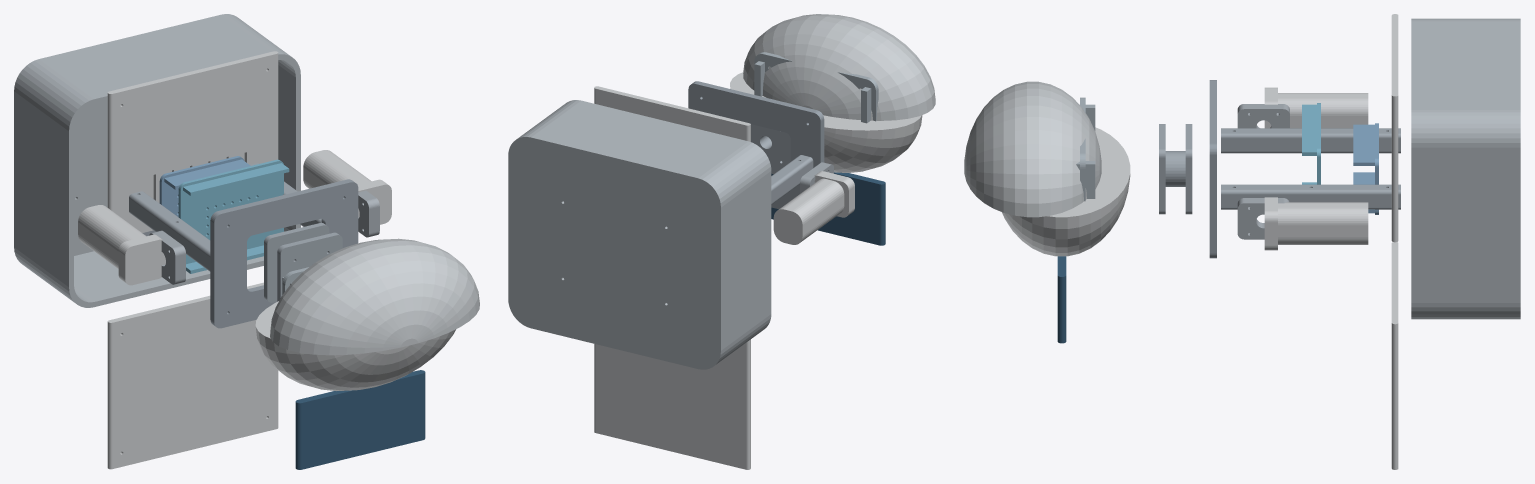
The model's file is HERBIE_V1_Exploded_Interactive.glb.
3 views of the same model, side by side, from view 1: azimuth 30°, elevation 25°; view 2: azimuth 150°, elevation 25°; view 3: azimuth 270°, elevation 25° (orthographic). The views are drawn at different scales.
Parts seen in each view (by area): view 1: HBR-018, HBR-010, HBR-002, HBR-011, HBR-006, HBR-003, HBR-001, HBR-016, HBR-014, HBR-005, HBR-015, HBR-008 (+3 smaller); view 2: HBR-018, HBR-010, HBR-002, HBR-006, HBR-001, HBR-014, HBR-011, HBR-003, HBR-004, HBR-005, HBR-008; view 3: HBR-018, HBR-002, HBR-001, HBR-015, HBR-008, HBR-009, HBR-014, HBR-005, HBR-011, HBR-010, HBR-017, HBR-006 (+5 smaller).
Boxes of the visible parts, <box> form: HBR-018: <box>14,14,300,307</box>; HBR-010: <box>107,282,278,469</box>; HBR-002: <box>270,238,479,355</box>; HBR-011: <box>107,51,278,232</box>; HBR-006: <box>210,179,358,328</box>; HBR-003: <box>295,370,425,469</box>; HBR-001: <box>255,301,455,390</box>; HBR-016: <box>178,159,289,273</box>; HBR-014: <box>78,205,165,285</box>; HBR-005: <box>264,222,342,302</box>; HBR-015: <box>303,150,391,224</box>; HBR-008: <box>129,191,210,271</box>; HBR-018: <box>508,100,771,369</box>; HBR-010: <box>594,339,750,469</box>; HBR-002: <box>743,14,935,120</box>; HBR-006: <box>688,81,824,209</box>; HBR-001: <box>730,72,922,172</box>; HBR-014: <box>773,171,854,244</box>; HBR-011: <box>594,86,750,141</box>; HBR-003: <box>771,172,885,245</box>; HBR-004: <box>754,52,878,123</box>; HBR-005: <box>751,124,790,174</box>; HBR-008: <box>771,155,813,204</box>; HBR-018: <box>1411,18,1520,319</box>; HBR-002: <box>964,81,1101,217</box>; HBR-001: <box>1002,127,1130,256</box>; HBR-015: <box>1264,197,1368,250</box>; HBR-008: <box>1221,128,1400,153</box>; HBR-009: <box>1221,184,1400,209</box>; HBR-014: <box>1264,87,1368,128</box>; HBR-005: <box>1159,124,1192,214</box>; HBR-011: <box>1391,14,1398,242</box>; HBR-010: <box>1391,242,1398,469</box>; HBR-017: <box>1353,123,1378,214</box>; HBR-006: <box>1209,80,1216,258</box>.
Size of the model in its own units: 322 by 433 by 585.
